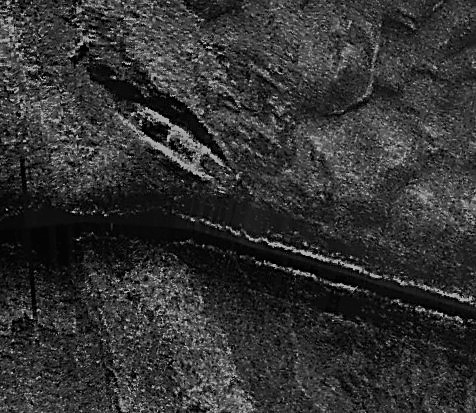ship: (111, 94, 239, 196)
